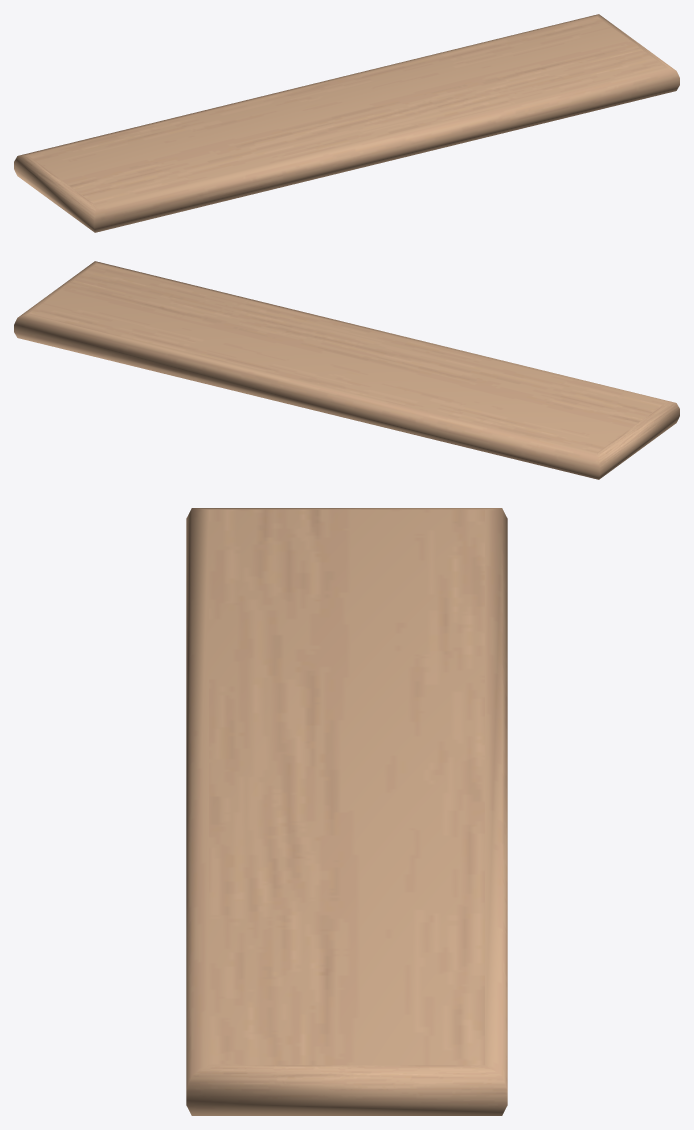
The model's file is Straight_Shelving_02.FBX.
3 renders of one model, top to bottom at view 1: azimuth 30°, elevation 25°; view 2: azimuth 150°, elevation 25°; view 3: azimuth 270°, elevation 25°, orthographic. The views are drawn at different scales.
Parts seen in each view (by area): view 1: Shelf_Straight; view 2: Shelf_Straight; view 3: Shelf_Straight.
Boxes of the visible parts, bbox=[...] form: Shelf_Straight: bbox=[14, 14, 679, 232]; Shelf_Straight: bbox=[14, 261, 679, 479]; Shelf_Straight: bbox=[186, 508, 507, 1115].
Size of the model in its own units: 200 by 8 by 47.55.
